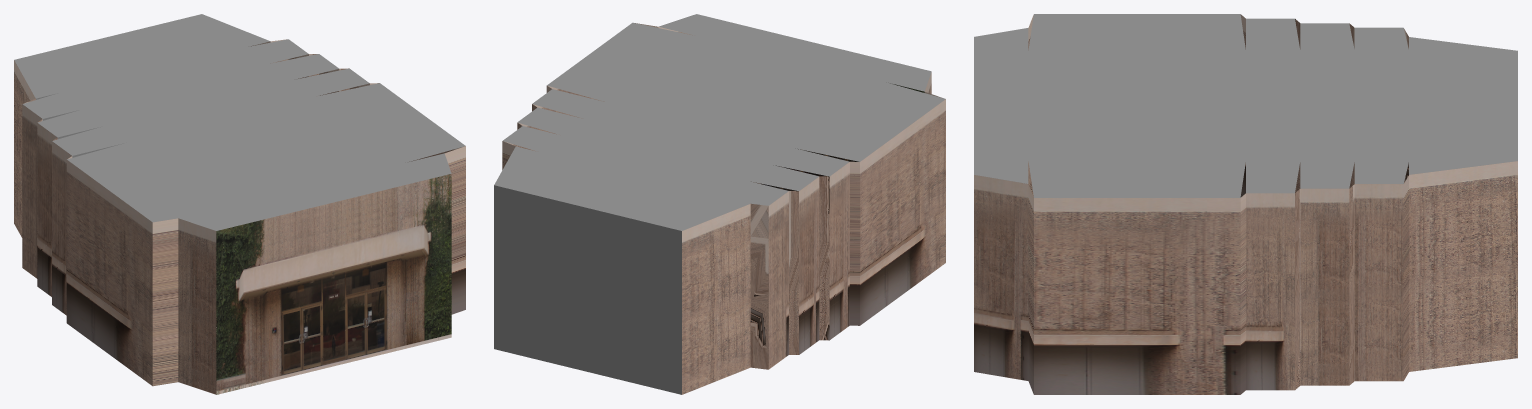
File: Neeb.FBX
3 renders of one model, left to right at view 1: azimuth 30°, elevation 25°; view 2: azimuth 150°, elevation 25°; view 3: azimuth 270°, elevation 25°, orthographic. The views are drawn at different scales.
Visible parts, largest first — view 1: Box002; view 2: Box002; view 3: Box002.
Part boxes in pixels (<box>): Box002: <box>14,14,465,394</box>; Box002: <box>494,14,945,394</box>; Box002: <box>974,14,1517,394</box>.
Size of the model in its own units: 40 by 20 by 50.
